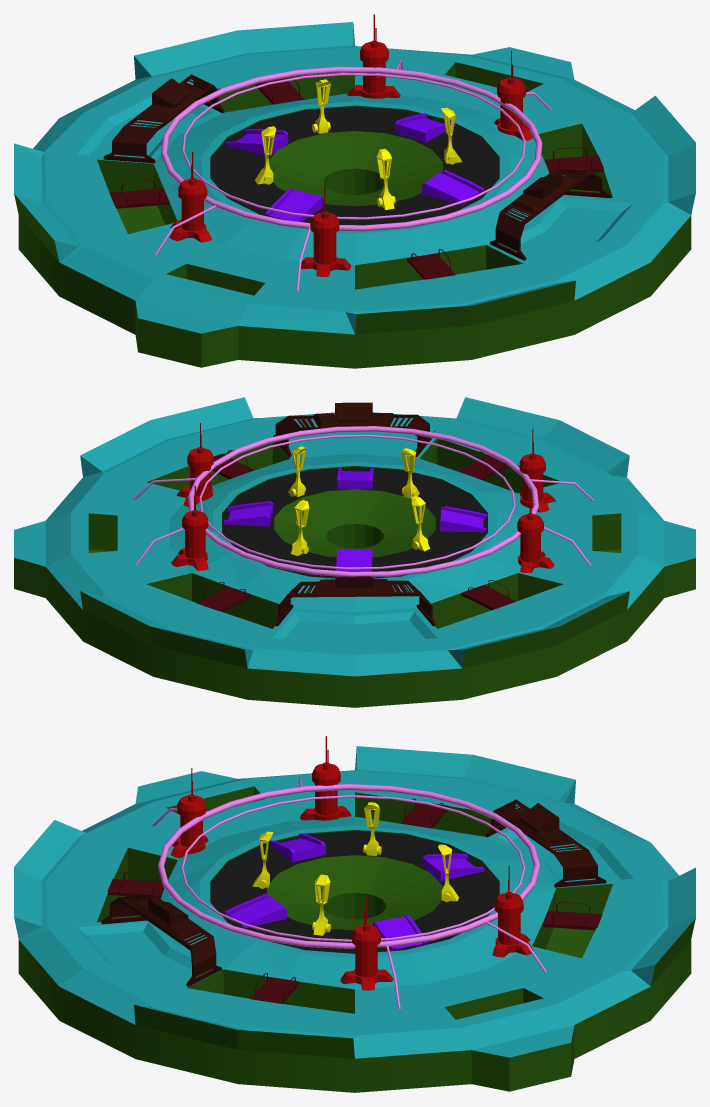
Rendered from Arena.FBX.
3 renders of one model, top to bottom at view 1: azimuth 30°, elevation 25°; view 2: azimuth 150°, elevation 25°; view 3: azimuth 270°, elevation 25°, orthographic. The views are drawn at different scales.
Parts seen in each view (by area): view 1: Cylinder001, Object024, Circle001, Object028, Cylinder118, Box036, Box020, Box027; view 2: Cylinder001, Object024, Circle001, Object028, Cylinder118, Box036, Box020, Box027; view 3: Cylinder001, Object024, Circle001, Object028, Cylinder118, Box036, Box020, Box027.
Boxes of the visible parts, box(x1,y1,x2,y2) form: Cylinder001: box(14, 22, 695, 368); Object024: box(210, 106, 499, 225); Circle001: box(154, 59, 551, 291); Object028: box(103, 74, 610, 260); Cylinder118: box(169, 14, 532, 276); Box036: box(225, 113, 484, 221); Box020: box(109, 77, 603, 279); Box027: box(255, 79, 461, 209); Cylinder001: box(14, 397, 695, 707); Object024: box(222, 467, 487, 578); Circle001: box(133, 426, 594, 577); Object028: box(273, 402, 435, 626); Cylinder118: box(171, 423, 555, 572); Box036: box(223, 467, 487, 577); Box020: box(196, 450, 516, 611); Box027: box(288, 446, 430, 555); Cylinder001: box(14, 746, 695, 1092); Object024: box(210, 831, 499, 953); Circle001: box(152, 777, 546, 1009); Object028: box(101, 799, 606, 986); Cylinder118: box(170, 736, 533, 990); Box036: box(225, 833, 484, 950); Box020: box(107, 798, 602, 1003); Box027: box(252, 802, 458, 935).
Size of the model in its own units: 20265 by 19973 by 4195.
